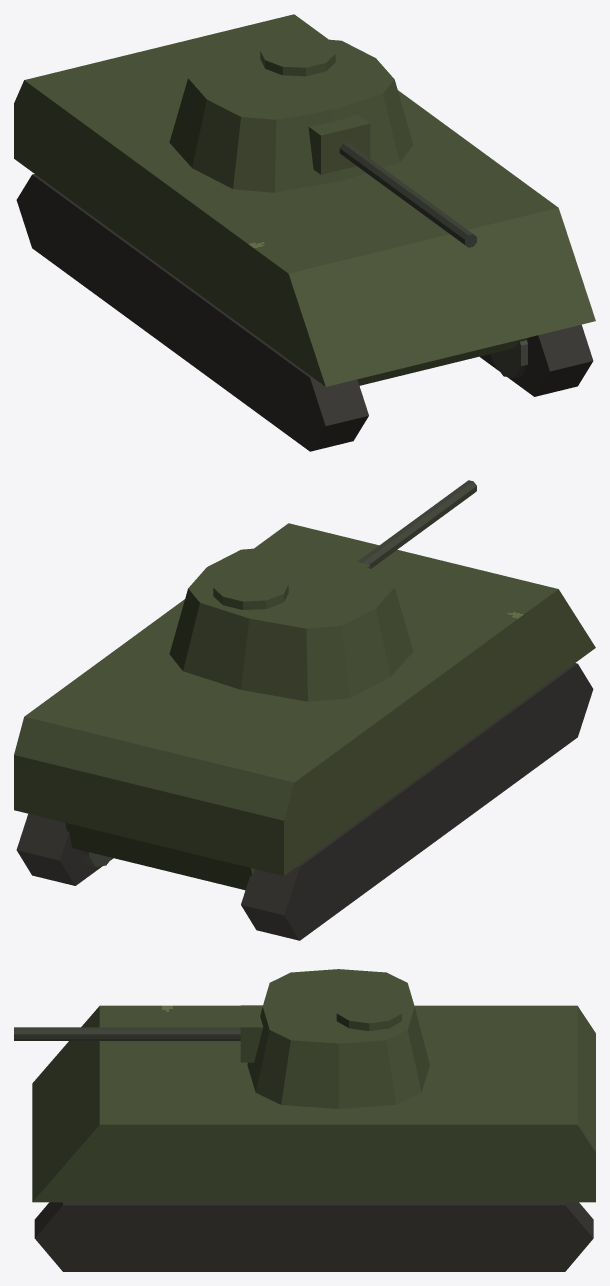
File: light_tank.glb
3 renders of one model, top to bottom at view 1: azimuth 30°, elevation 25°; view 2: azimuth 150°, elevation 25°; view 3: azimuth 270°, elevation 25°, orthographic. The views are drawn at different scales.
Visible parts, largest first — view 1: hull, tracks, $turret, $gun; view 2: hull, tracks, $turret, $gun; view 3: hull, tracks, $turret, $gun.
Part boxes in pixels (x1,y1,x2,y2): hull: (14, 14, 595, 386); tracks: (16, 174, 593, 451); $turret: (169, 36, 413, 192); $gun: (308, 114, 476, 247); hull: (14, 523, 595, 890); tracks: (16, 663, 593, 940); $turret: (169, 547, 413, 701); $gun: (319, 480, 476, 568); hull: (32, 1005, 595, 1202); tracks: (34, 1202, 593, 1271); $turret: (247, 969, 429, 1108); $gun: (14, 1005, 263, 1062).
Size of the model in its own units: 2.3 by 1.93 by 4.75.
1 material, 1 textured.
